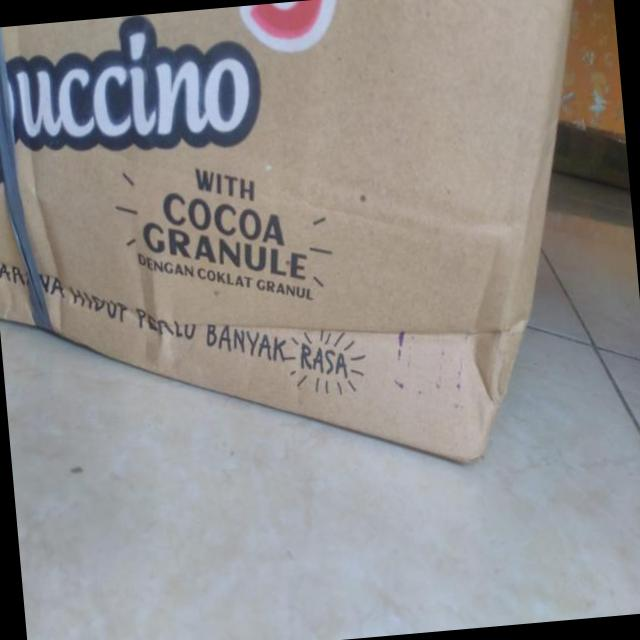crushed: (21, 258, 520, 456)
